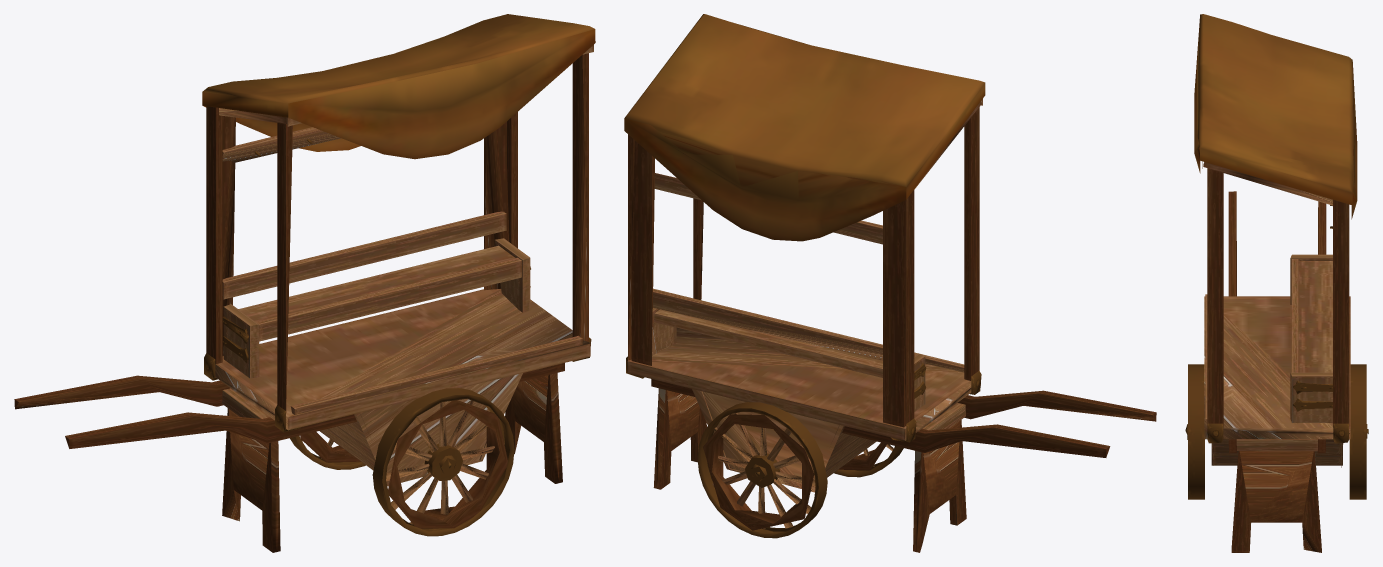
Rendered from Stall_Cart_Empty.gltf.
3 views of the same model, side by side, from view 1: azimuth 30°, elevation 25°; view 2: azimuth 150°, elevation 25°; view 3: azimuth 270°, elevation 25° (orthographic). The views are drawn at different scales.
Visible parts, largest first — view 1: Stall_Cart_Empty; view 2: Stall_Cart_Empty; view 3: Stall_Cart_Empty.
Boxes of the visible parts, box(x1,y1,x2,y2) form: Stall_Cart_Empty: box(14, 14, 595, 552); Stall_Cart_Empty: box(624, 14, 1156, 552); Stall_Cart_Empty: box(1185, 14, 1368, 552).
Bounding box in the file's own units: 3.02 × 2.63 × 1.06.
Materials: 3 (3 with a texture image).
